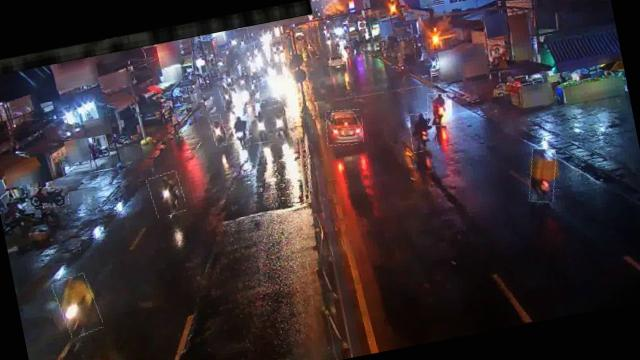Bike: (52, 272, 102, 338), (524, 145, 562, 204), (148, 170, 186, 217), (407, 110, 440, 152), (24, 182, 70, 211), (424, 90, 456, 127), (230, 113, 252, 147), (208, 112, 228, 146), (218, 80, 236, 110)
Car: (247, 98, 292, 144), (322, 105, 366, 148)
